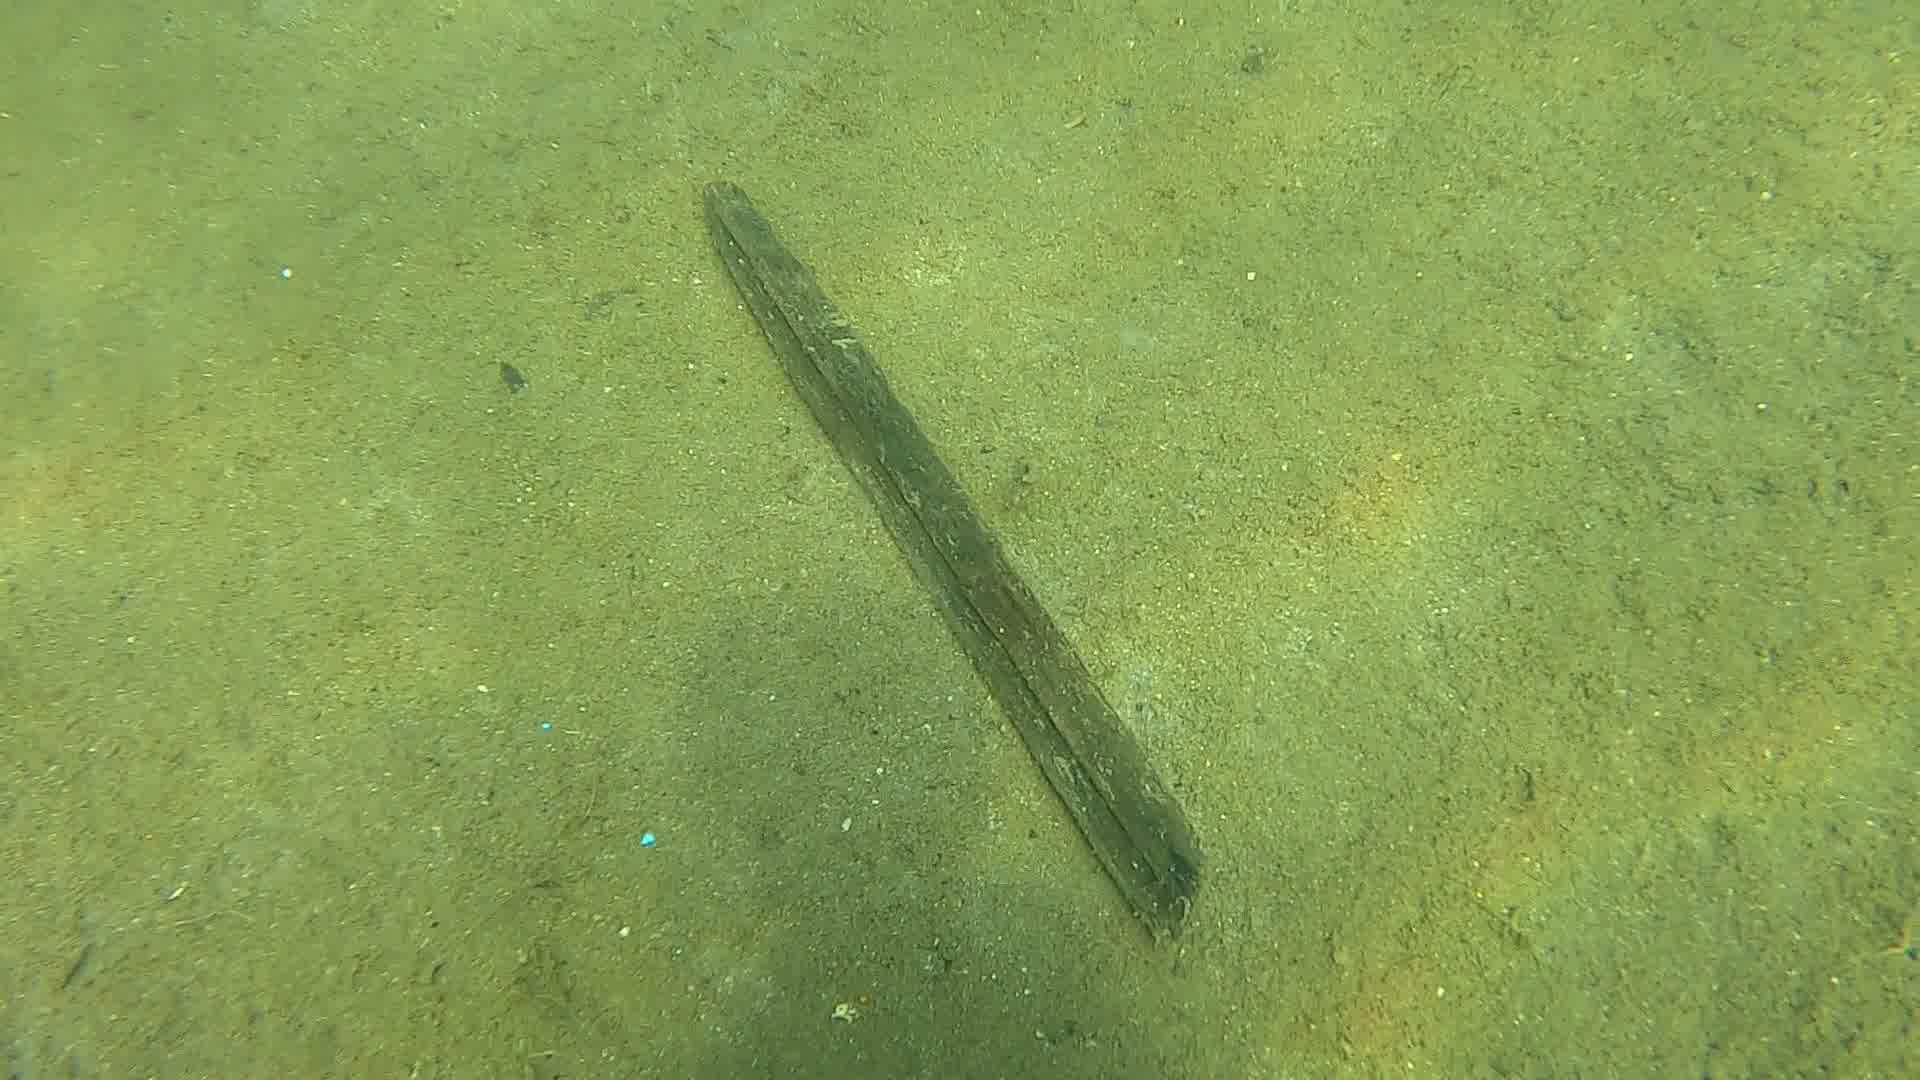wood: (699, 178, 1209, 939)
